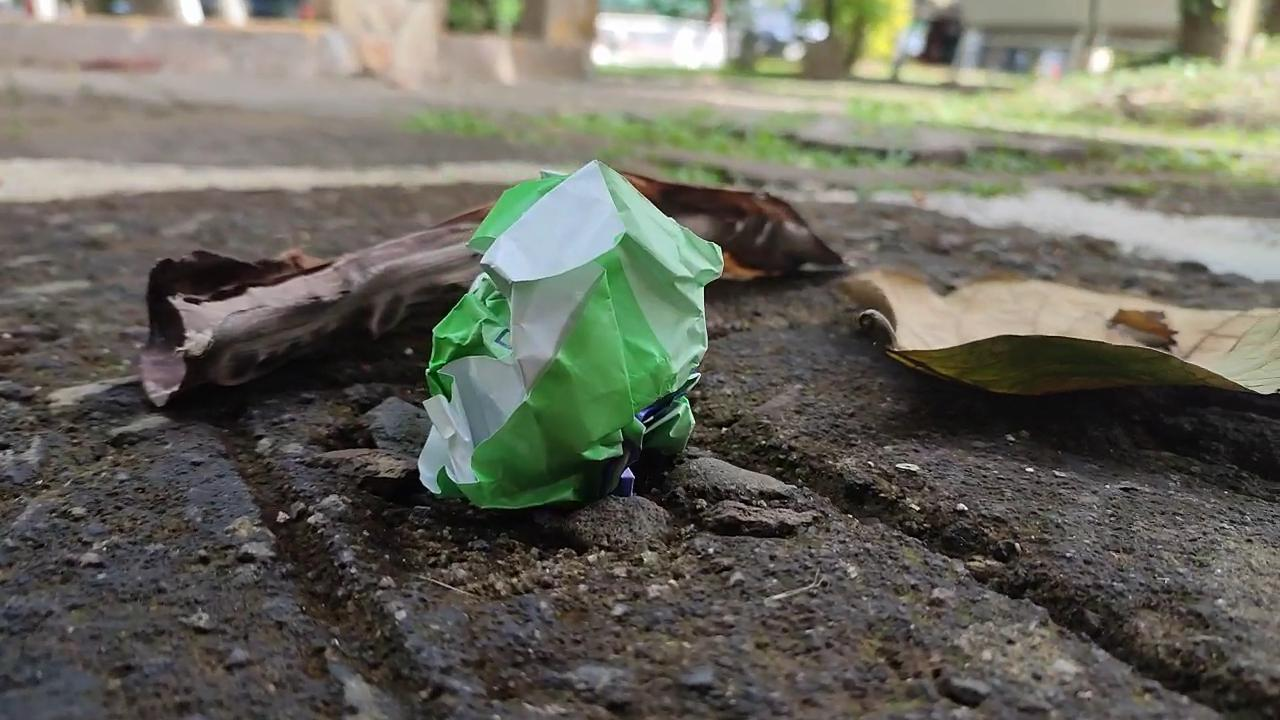Paper: (413, 147, 729, 521)
